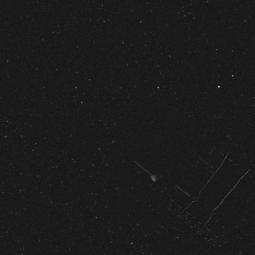proba_3_csc: (137, 117, 255, 229)
